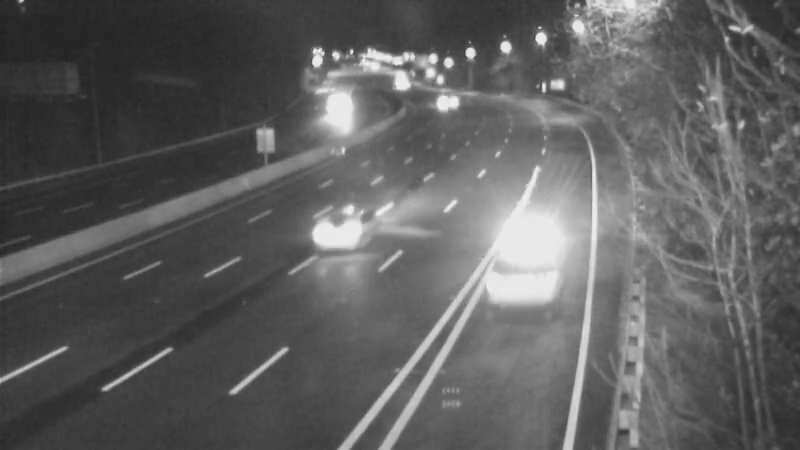vehicle: (299, 193, 379, 273), (490, 218, 570, 298), (420, 72, 470, 122), (311, 88, 361, 138)
